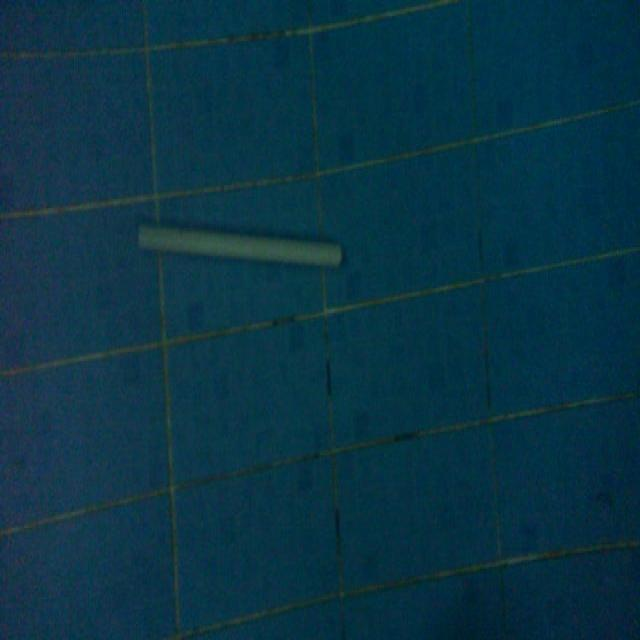Cube: (135, 215, 344, 274)
